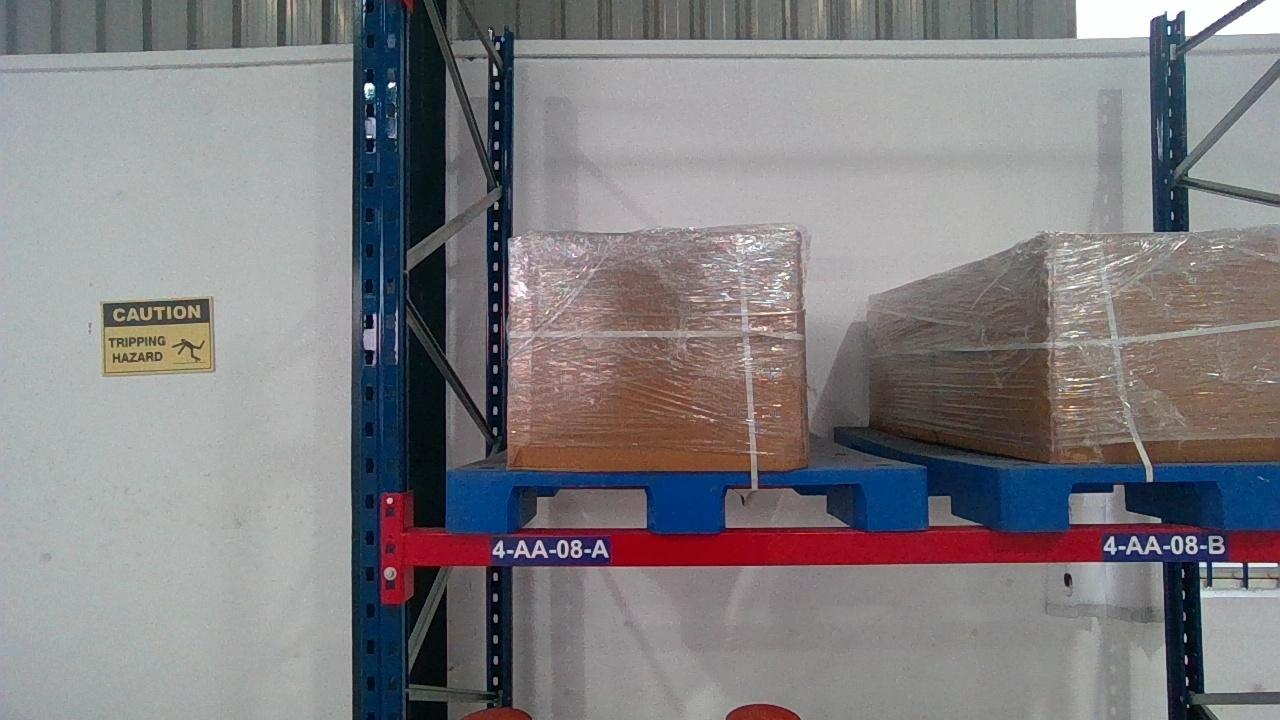h_rack: (404, 528, 1277, 564)
small_pallet: (441, 470, 930, 531), (1005, 463, 1279, 526)
